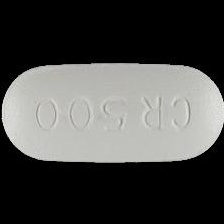70786-0515: (0, 0, 224, 224)
